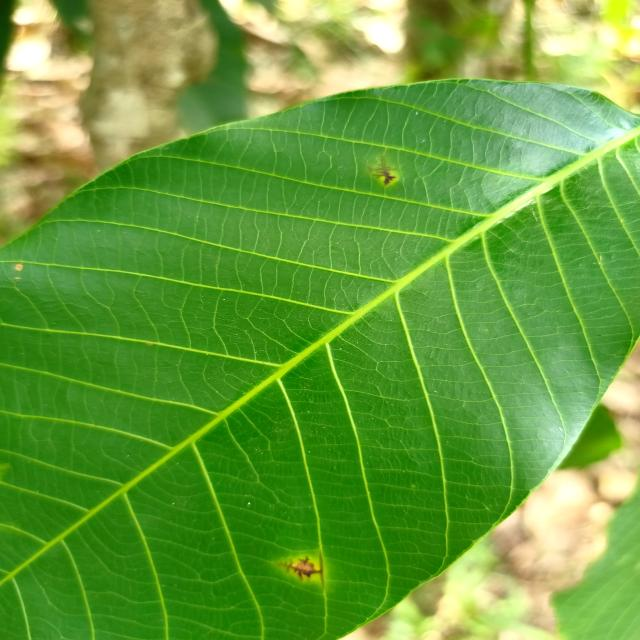Corynespora: (277, 550, 326, 588), (370, 155, 398, 185)
